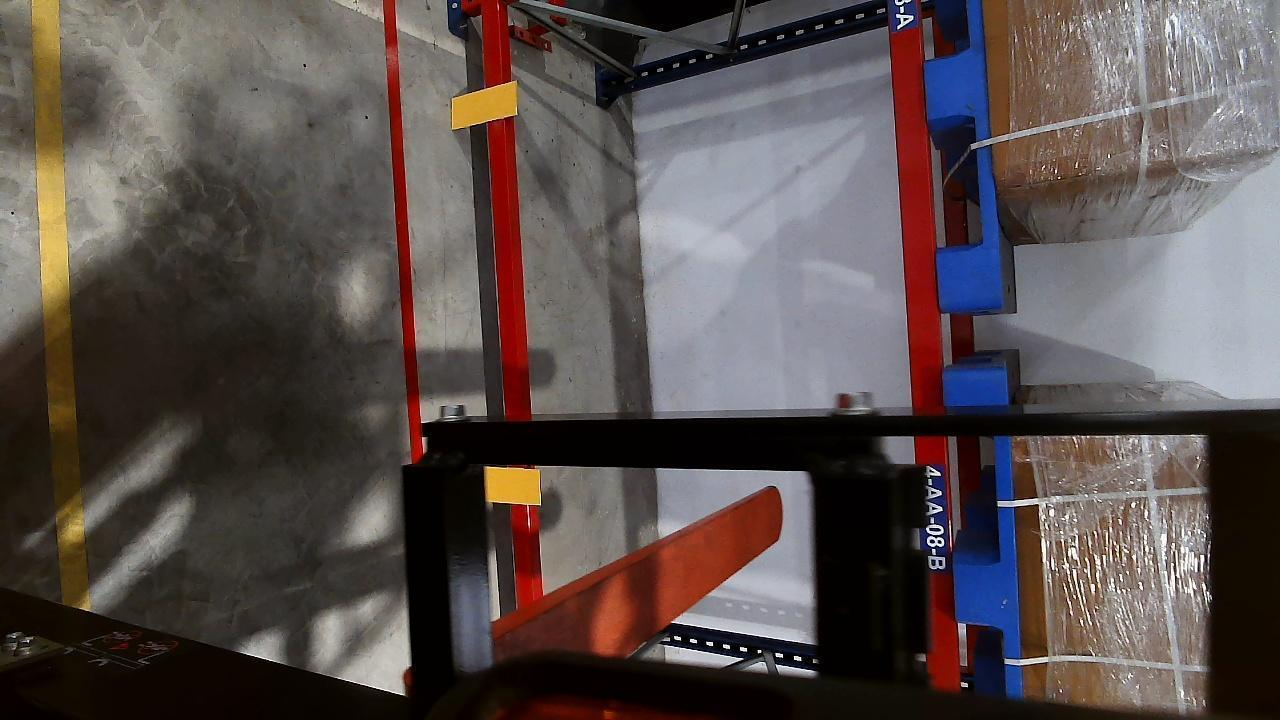red_line: (379, 0, 423, 458)
yellow_line: (27, 0, 84, 609)
